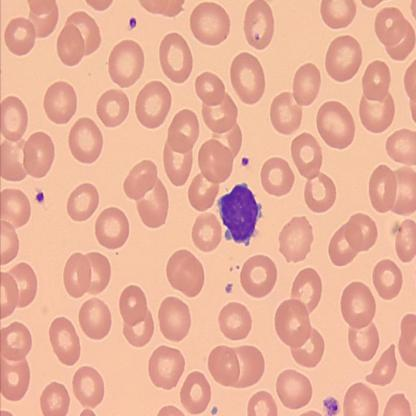Lymphocyte: (216, 180, 264, 246)
